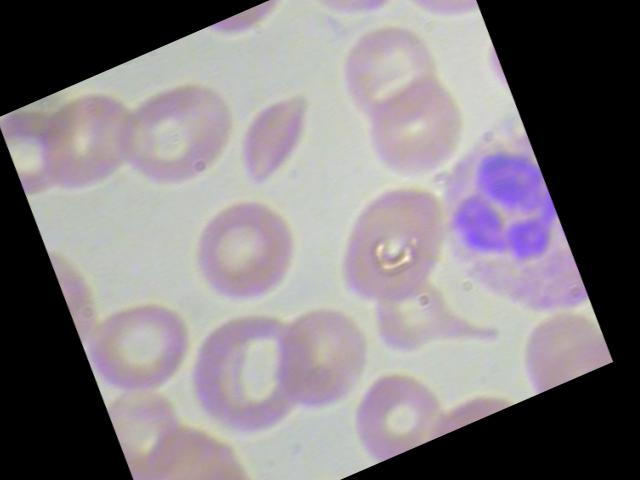White Blood Cells: (399, 106, 606, 354)
